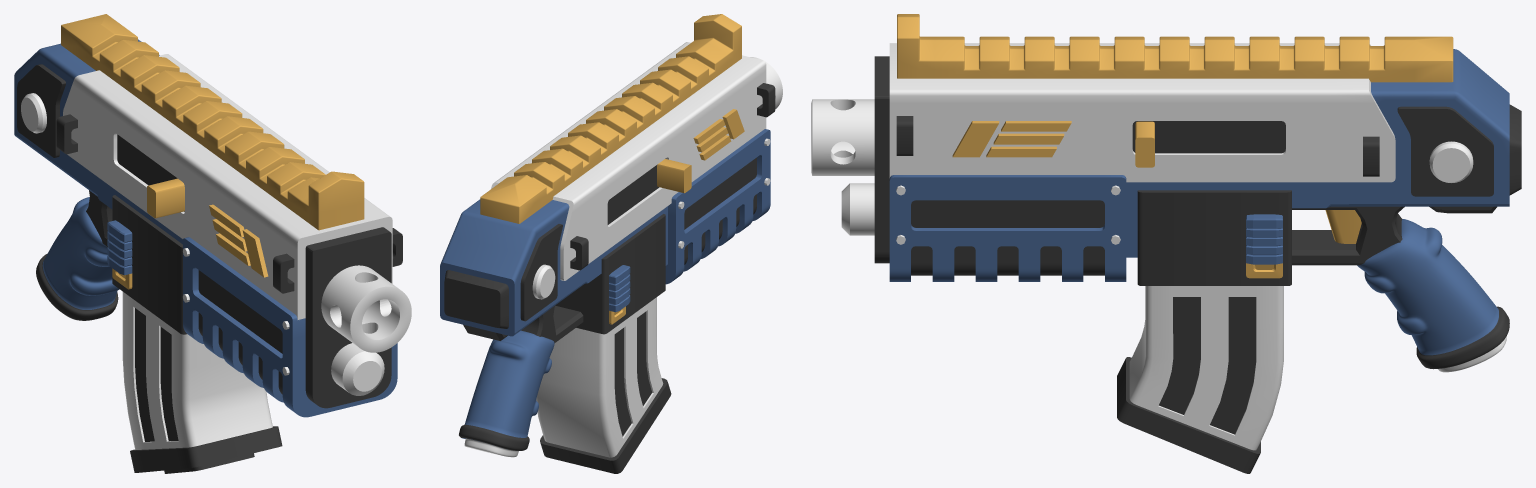
The model's file is rifle.fbx.
3 renders of one model, left to right at view 1: azimuth 30°, elevation 25°; view 2: azimuth 150°, elevation 25°; view 3: azimuth 270°, elevation 25°, orthographic. The views are drawn at different scales.
Visible parts, largest first — view 1: base, mag, top_tool, foward_handle, plane_fow, Plane, dulo, Cylinder, logo, petly, knopka_mag, zatvor (+2 smaller); view 2: base, mag, top_tool, foward_handle, Plane, bhandle, logo, petly, knopka_mag, zatvor, krugleshok, dulo; view 3: base, foward_handle, mag, top_tool, Plane, dulo, bhandle, logo, plane_fow, knopka_mag, Cylinder, krugleshok (+3 smaller).
Part boxes in pixels (x1,y1,x2,y2): base: (14,39,392,334); mag: (122,292,282,473); top_tool: (61,14,364,230); foward_handle: (183,237,397,417); plane_fow: (305,227,391,408); Plane: (36,197,119,320); dulo: (321,265,411,352); Cylinder: (331,343,384,395); logo: (209,204,268,277); petly: (56,114,402,293); knopka_mag: (107,220,132,289); zatvor: (147,178,184,218); base: (440,42,766,336); mag: (536,297,671,473); top_tool: (480,14,741,223); foward_handle: (665,129,770,284); Plane: (459,330,554,457); bhandle: (463,305,583,342); logo: (693,109,744,160); petly: (570,83,775,270); knopka_mag: (609,265,630,324); zatvor: (657,159,691,193); krugleshok: (532,264,555,299); dulo: (750,57,782,108); base: (889,43,1521,285); foward_handle: (889,175,1126,281); mag: (1117,286,1283,473); top_tool: (897,14,1453,82); Plane: (1357,219,1509,372); dulo: (811,99,874,175); bhandle: (1292,206,1496,265); logo: (952,121,1071,157); plane_fow: (874,56,889,263); knopka_mag: (1246,214,1282,278); Cylinder: (841,183,874,235); krugleshok: (1429,141,1473,182).
Bounding box in the file's own units: 122 × 313 × 463.
